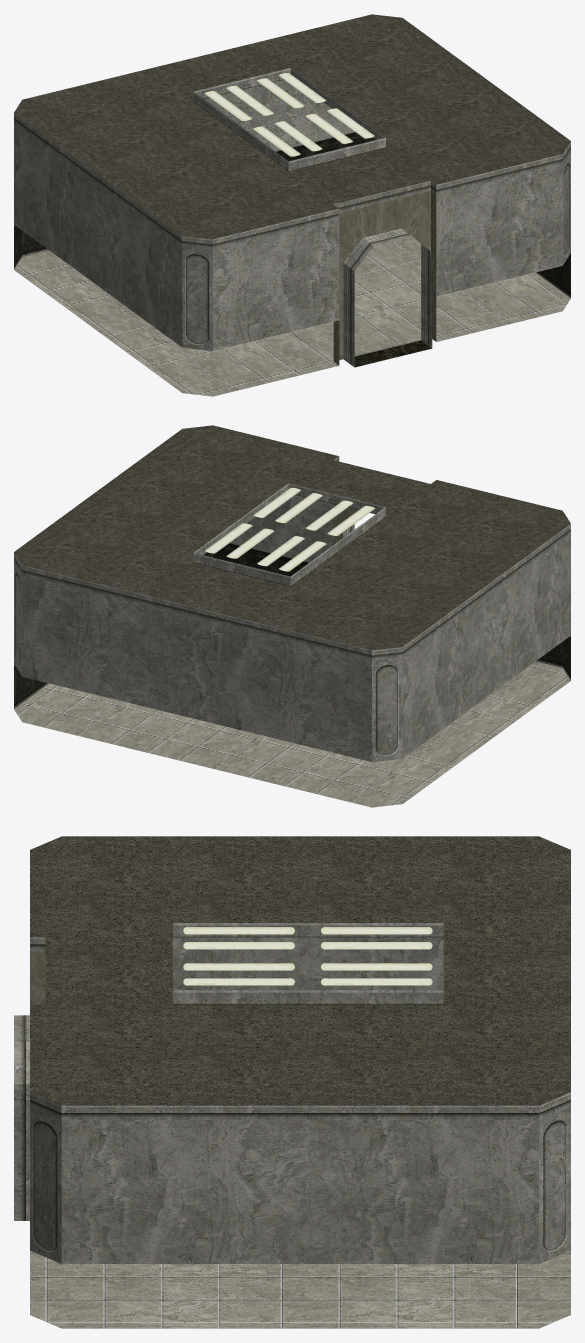
Rendered from mun_all_guild_commerce_s01_r7_meetingc_mesh_meetingc.fbx.
The picture shows the model from 3 angles, top to bottom: view 1: azimuth 30°, elevation 25°; view 2: azimuth 150°, elevation 25°; view 3: azimuth 270°, elevation 25°; orthographic projection. The views are drawn at different scales.
Visible parts, largest first — view 1: mesh_node; view 2: mesh_node; view 3: mesh_node.
Part boxes in pixels (box(x1,y1,x2,y2)): mesh_node: box(14, 14, 570, 396); mesh_node: box(14, 425, 570, 807); mesh_node: box(14, 836, 570, 1328).
Bounding box in the file's own units: 10 × 4.12 × 8.75.
